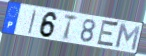6: (37, 11, 59, 39)
8: (79, 18, 97, 44)
E: (96, 18, 121, 50)
I: (27, 9, 39, 36)
M: (114, 22, 142, 52)
T: (63, 13, 79, 41)
